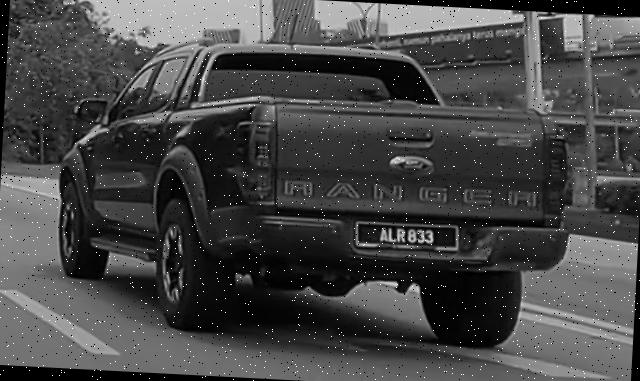License_Plate: (353, 218, 461, 255)
car: (51, 29, 580, 352)
